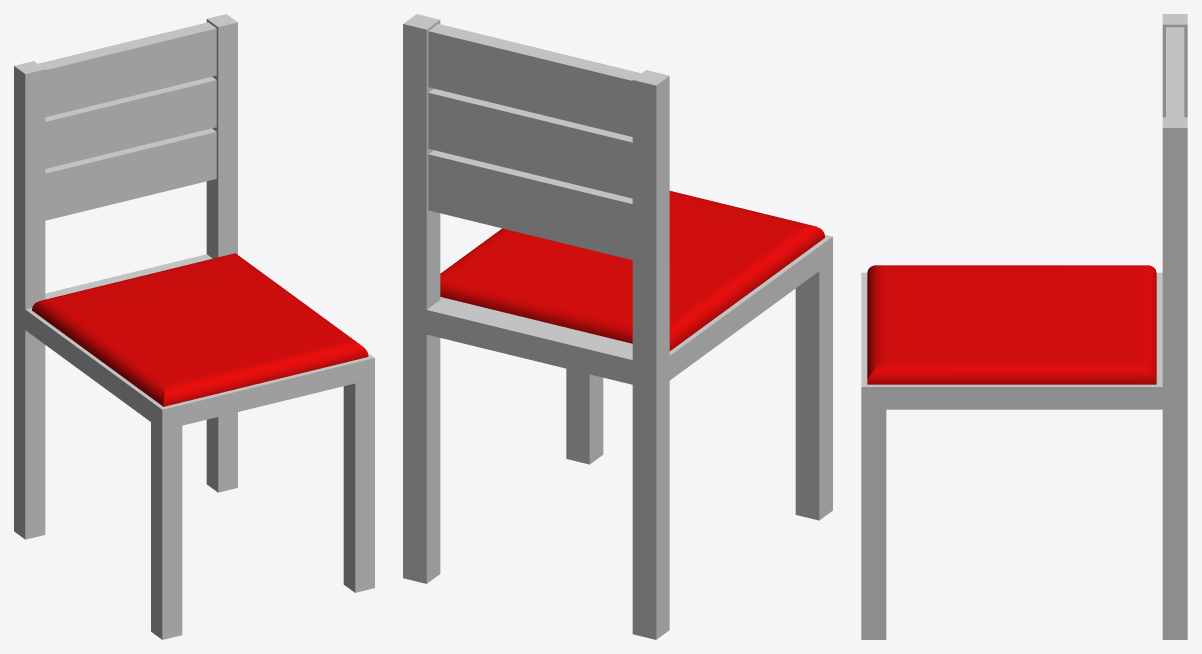
File: Chair.fbx
The picture shows the model from 3 angles, left to right: view 1: azimuth 30°, elevation 25°; view 2: azimuth 150°, elevation 25°; view 3: azimuth 270°, elevation 25°; orthographic projection. The views are drawn at different scales.
Parts seen in each view (by area): view 1: Cube; view 2: Cube; view 3: Cube.
Boxes of the visible parts, <box> form: Cube: <box>14,14,374,639</box>; Cube: <box>403,14,832,639</box>; Cube: <box>861,14,1187,639</box>.
Bounding box in the file's own units: 43 × 90 × 52.
